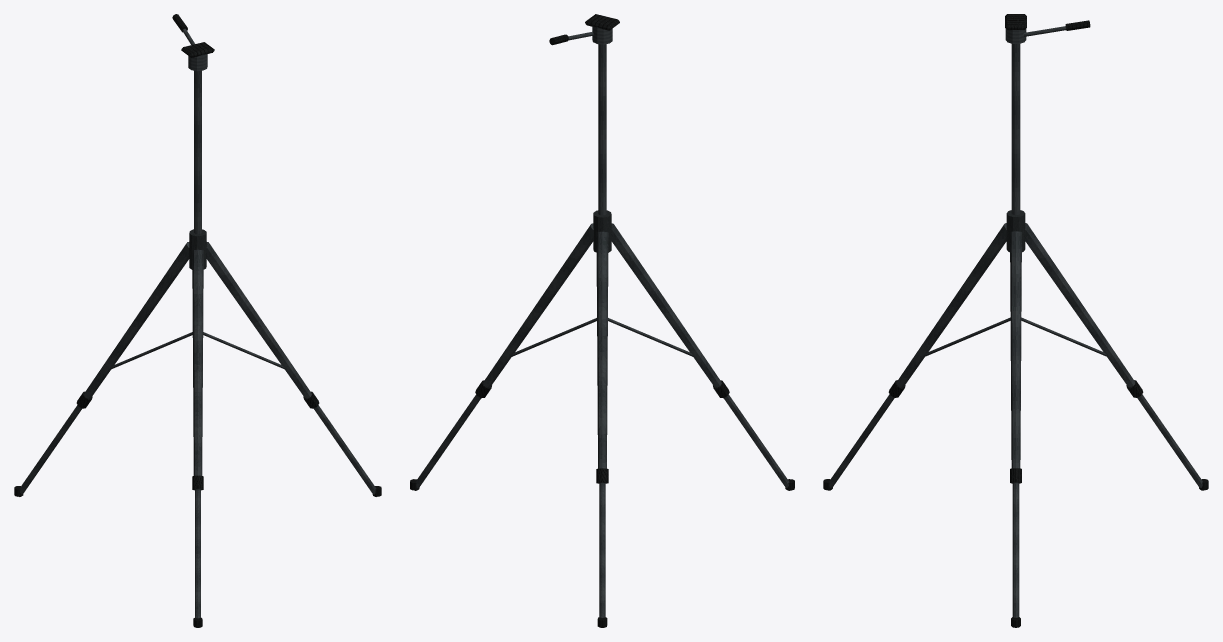
The model's file is blender_tripod_3.glb.
The picture shows the model from 3 angles, left to right: view 1: azimuth 30°, elevation 25°; view 2: azimuth 150°, elevation 25°; view 3: azimuth 270°, elevation 25°; orthographic projection. The views are drawn at different scales.
Visible parts, largest first — view 1: blender_tripod_3; view 2: blender_tripod_3; view 3: blender_tripod_3.
Boxes of the visible parts, left/top/right/bottom form: blender_tripod_3: left=14, top=14, right=381, bottom=627; blender_tripod_3: left=410, top=14, right=794, bottom=627; blender_tripod_3: left=823, top=14, right=1208, bottom=627.
Size of the model in its own units: 0.6108 by 1.05 by 0.7025.
Materials: 3 (3 with a texture image).
